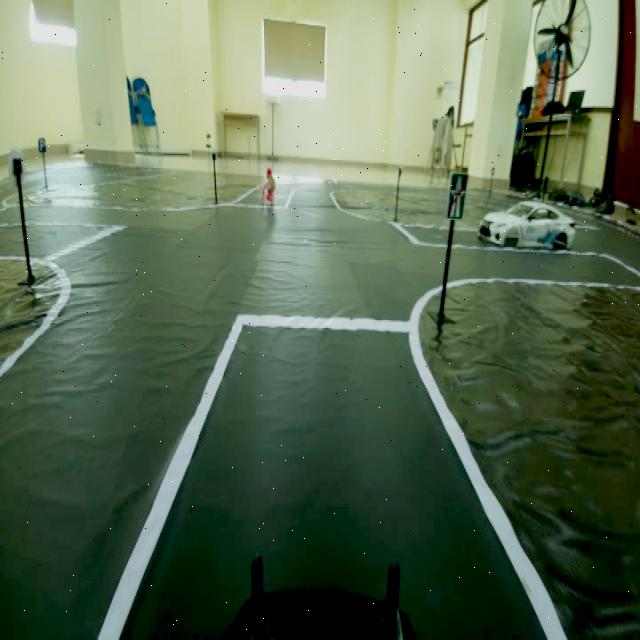highway_exit: (445, 166, 471, 233)
